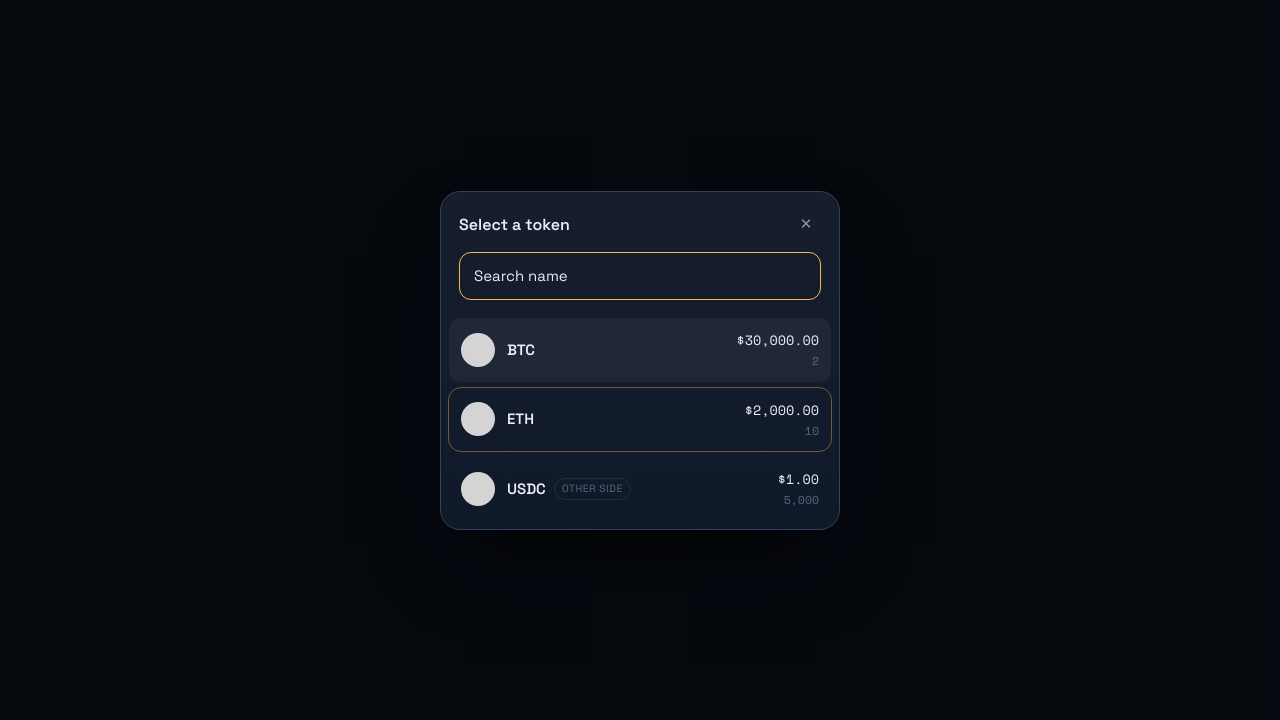
Test case: TokenSelectDialog › filters by symbol as you type
Type "usd" into the field with placeholder "Search name" at (640, 276), box [459,252,821,300]
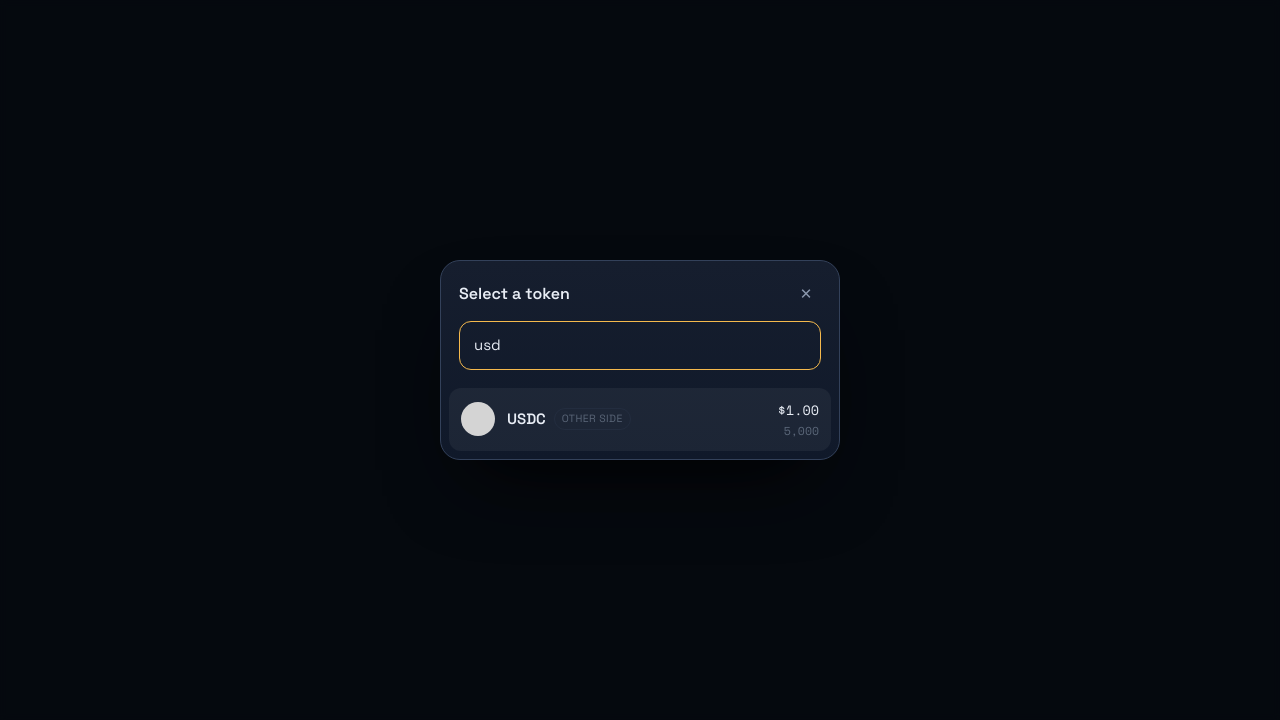
Expected: the text "USDC" is shown, [507,408,546,430]
Now the button "BTC" is gone
